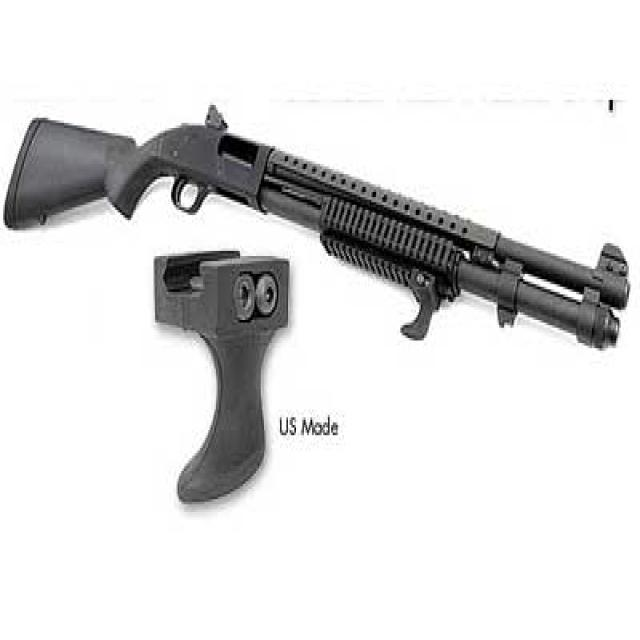ShotGun: (3, 110, 632, 351)
